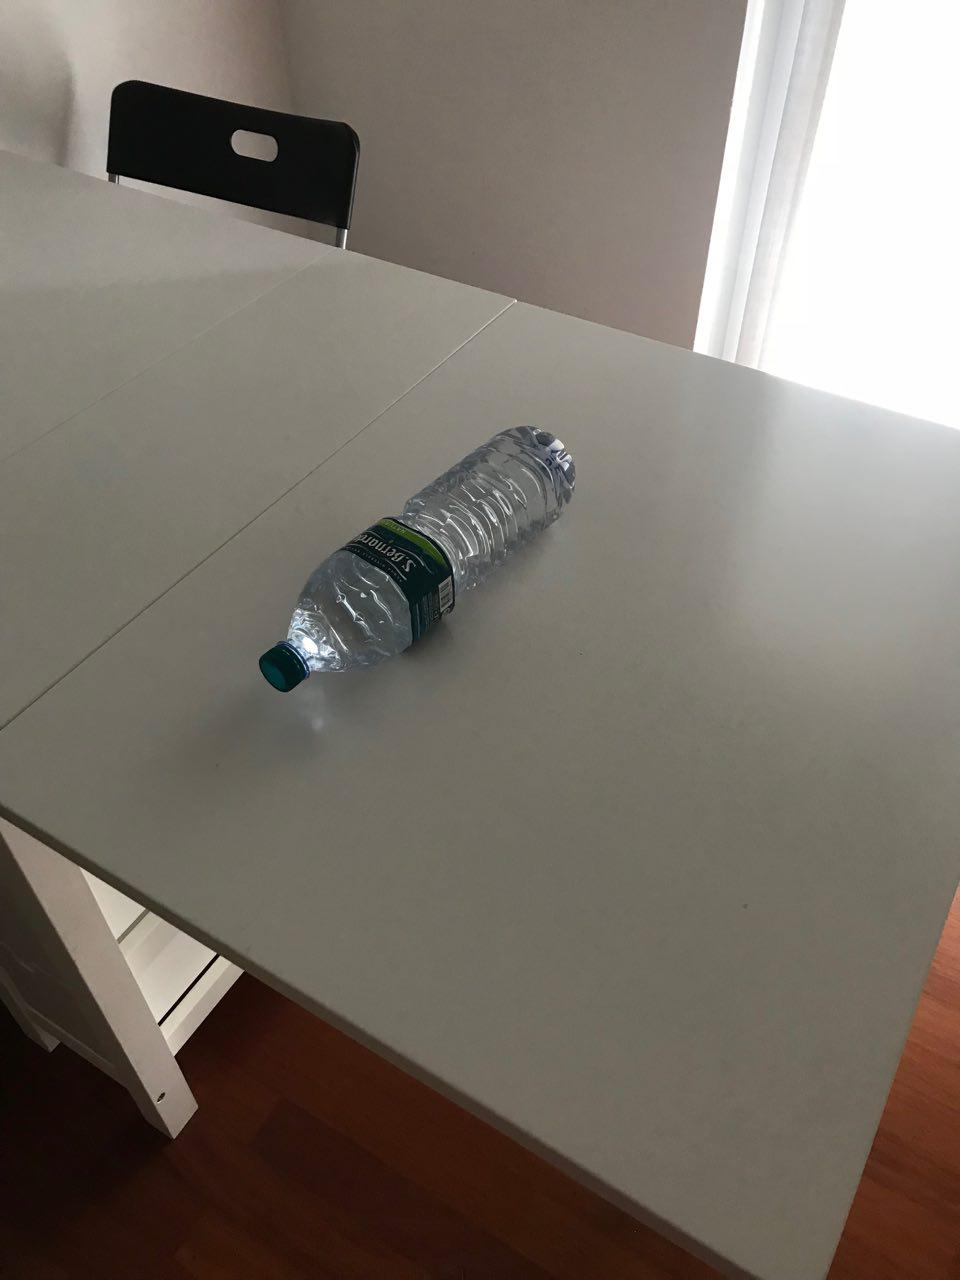san_bernardo: (257, 425, 577, 693)
